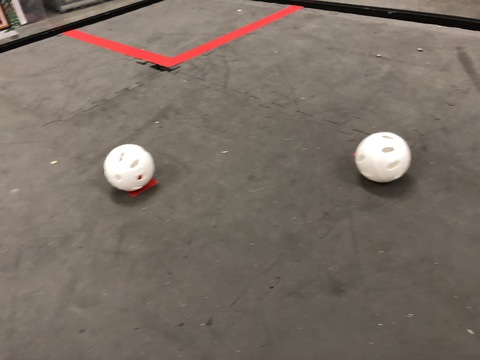ball: (341, 124, 420, 193), (89, 137, 164, 208)
